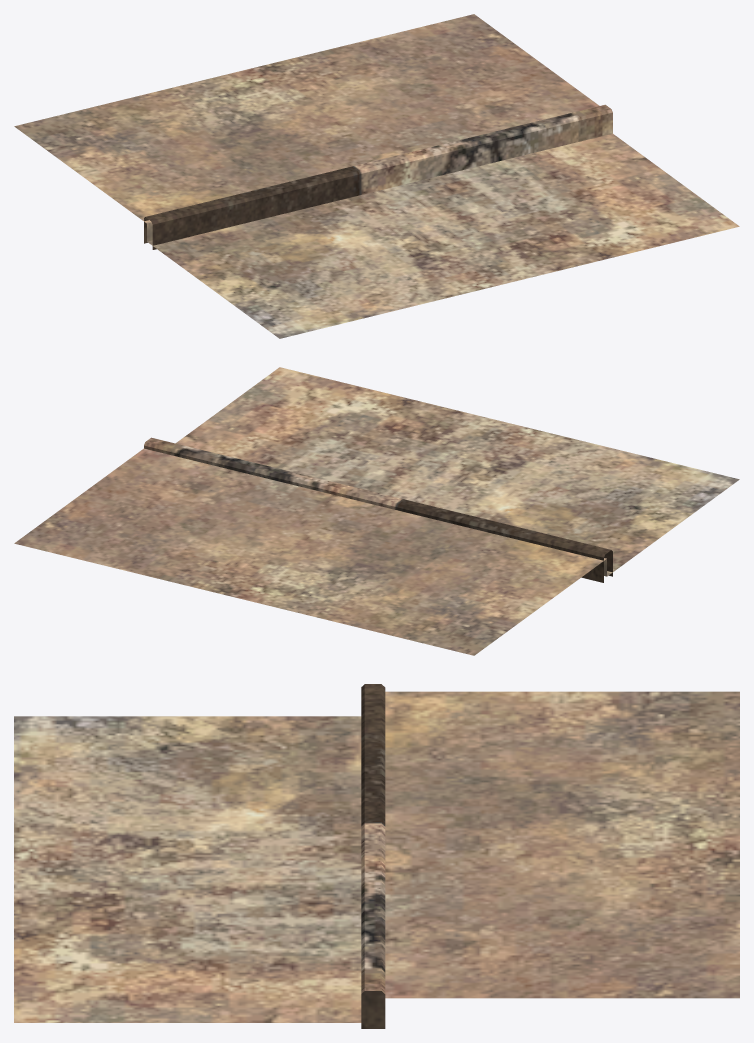
File: RoadState04.fbx
The picture shows the model from 3 angles, top to bottom: view 1: azimuth 30°, elevation 25°; view 2: azimuth 150°, elevation 25°; view 3: azimuth 270°, elevation 25°; orthographic projection. The views are drawn at different scales.
Parts seen in each view (by area): view 1: RoadState01; view 2: RoadState01; view 3: RoadState01.
Part boxes in pixels (x1=…): RoadState01: x1=14, y1=14, x2=739, y2=338; RoadState01: x1=14, y1=367, x2=739, y2=655; RoadState01: x1=14, y1=684, x2=739, y2=1028.
Bounding box in the file's own units: 400 × 23.07 × 400.
